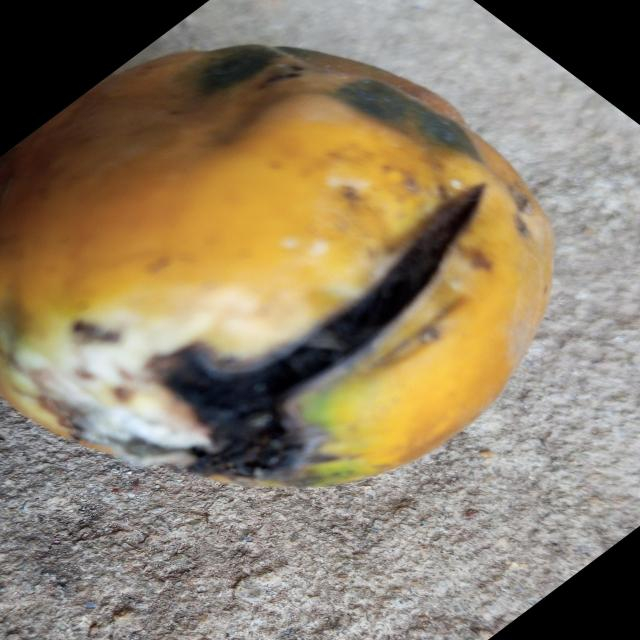damaged: (0, 45, 553, 487)
